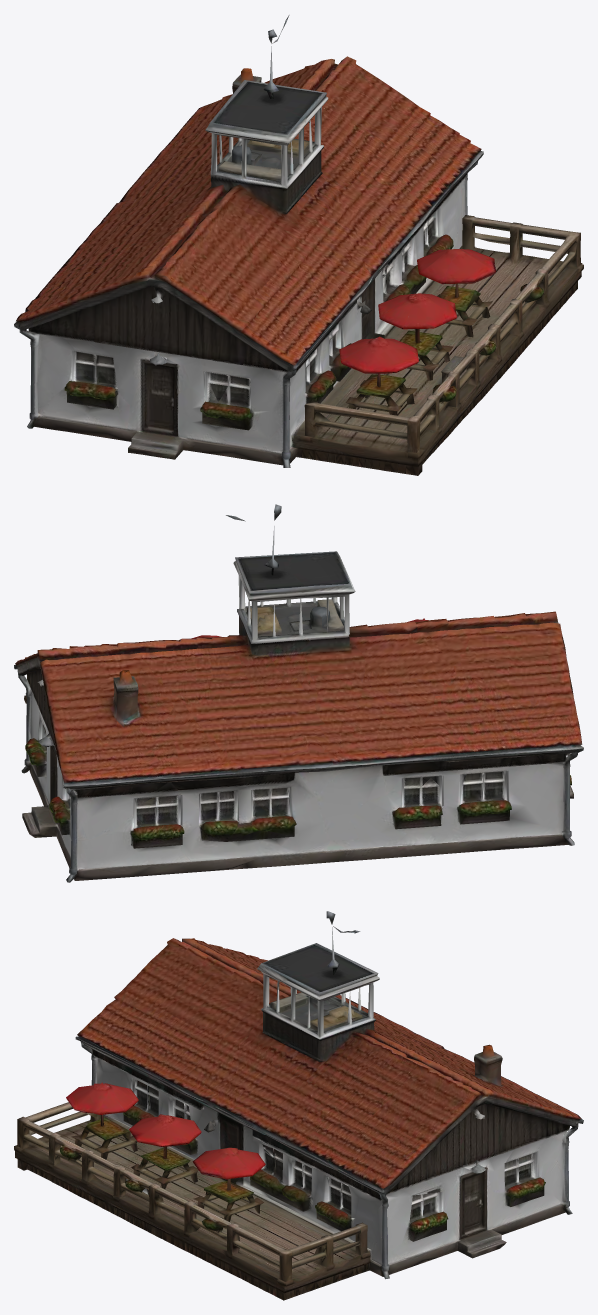
The model's file is clubhouse.glb.
The picture shows the model from 3 angles, top to bottom: view 1: azimuth 30°, elevation 25°; view 2: azimuth 150°, elevation 25°; view 3: azimuth 270°, elevation 25°; orthographic projection. The views are drawn at different scales.
Visible parts, largest first — view 1: tripo_node_83d1ef92-6e4a-4c53-b264-1823895d87c5; view 2: tripo_node_83d1ef92-6e4a-4c53-b264-1823895d87c5; view 3: tripo_node_83d1ef92-6e4a-4c53-b264-1823895d87c5.
Part boxes in pixels (x1,y1,x2,y2): tripo_node_83d1ef92-6e4a-4c53-b264-1823895d87c5: (14, 15, 583, 475); tripo_node_83d1ef92-6e4a-4c53-b264-1823895d87c5: (14, 504, 583, 882); tripo_node_83d1ef92-6e4a-4c53-b264-1823895d87c5: (14, 911, 583, 1300).
Size of the model in its own units: 1.14 by 0.5841 by 1.12.
Materials: 1 (1 with a texture image).
